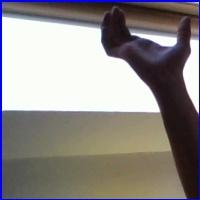space: (90, 6, 195, 81)
